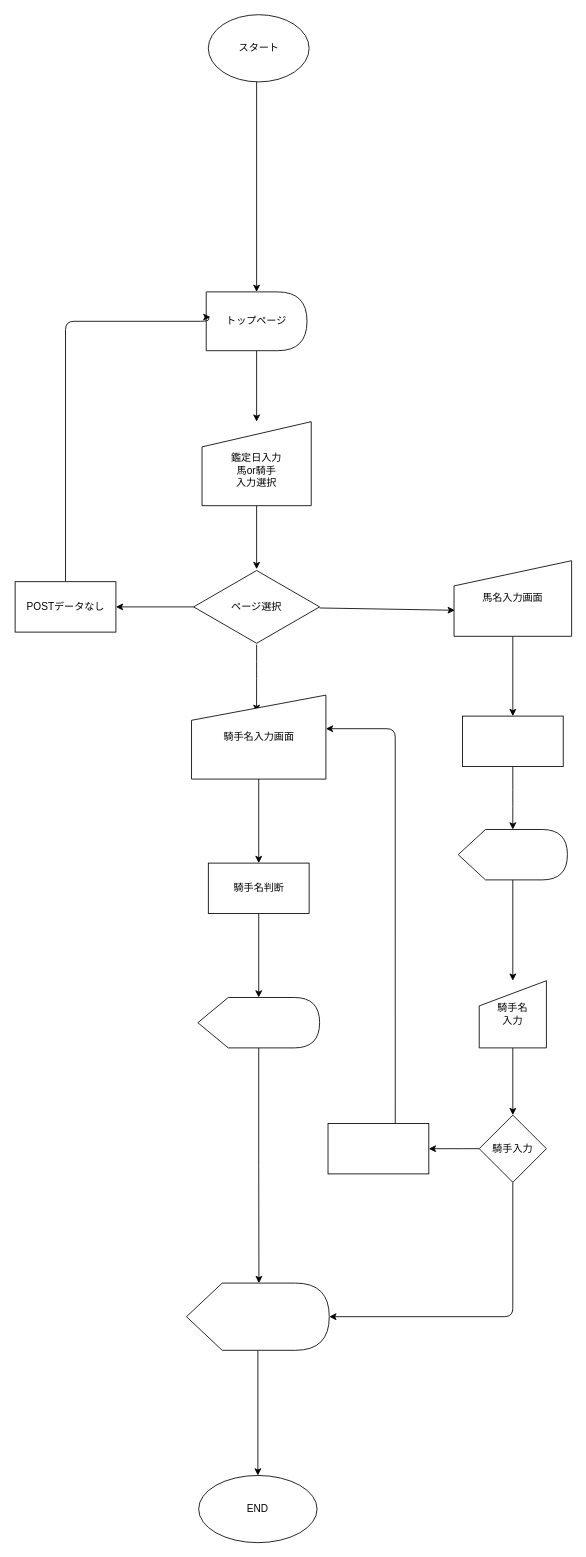
The diagram is 586 pixels wide and 1557 high, and some of its shapes have lost their labels. The centre of each missing label's shape, as x and y in pixels:
"終了案内" goes at pixel 257 1316.
"馬名鑑定結果" goes at pixel 512 854.
"馬画数判断" goes at pixel 512 740.
"騎手名入力へ" goes at pixel 378 1148.
"騎手名鑑定結果" goes at pixel 258 1022.
